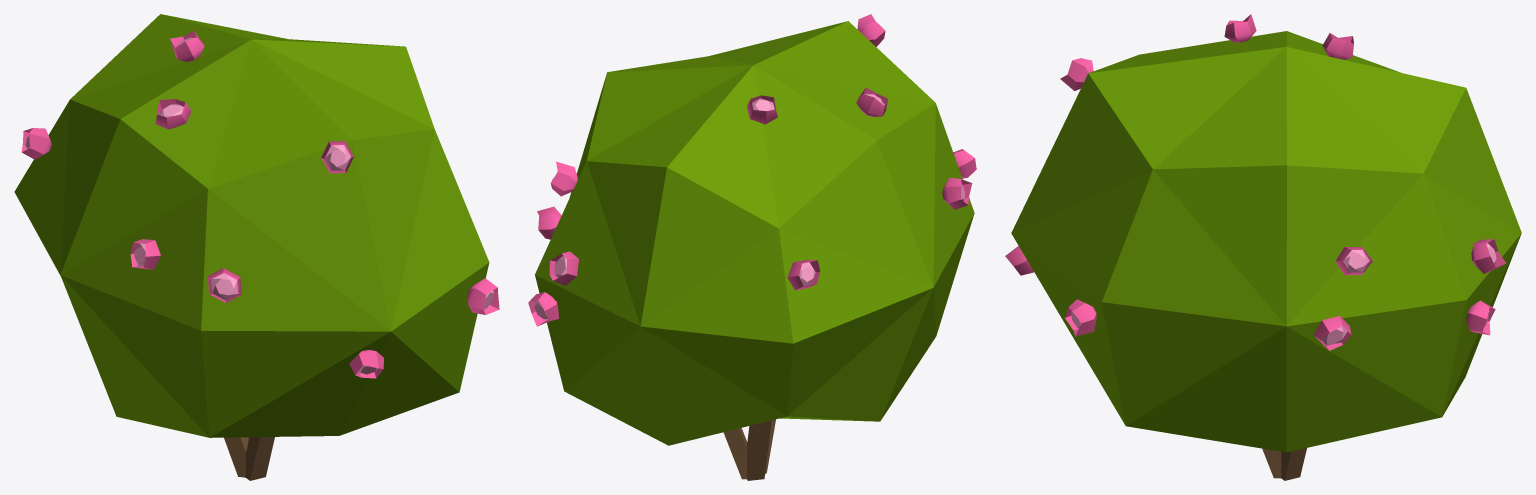
Rendered from aI3Wtnkueq7.glb.
3 renders of one model, left to right at view 1: azimuth 30°, elevation 25°; view 2: azimuth 150°, elevation 25°; view 3: azimuth 270°, elevation 25°, orthographic. The views are drawn at different scales.
Parts seen in each view (by area): view 1: Geo_RoseBush; view 2: Geo_RoseBush; view 3: Geo_RoseBush.
Part boxes in pixels (bbox=[...]): Geo_RoseBush: bbox=[14, 14, 499, 480]; Geo_RoseBush: bbox=[528, 14, 976, 480]; Geo_RoseBush: bbox=[1005, 14, 1521, 480].
Size of the model in its own units: 0.9589 by 1 by 1.09.
Materials: 1 (1 with a texture image).
